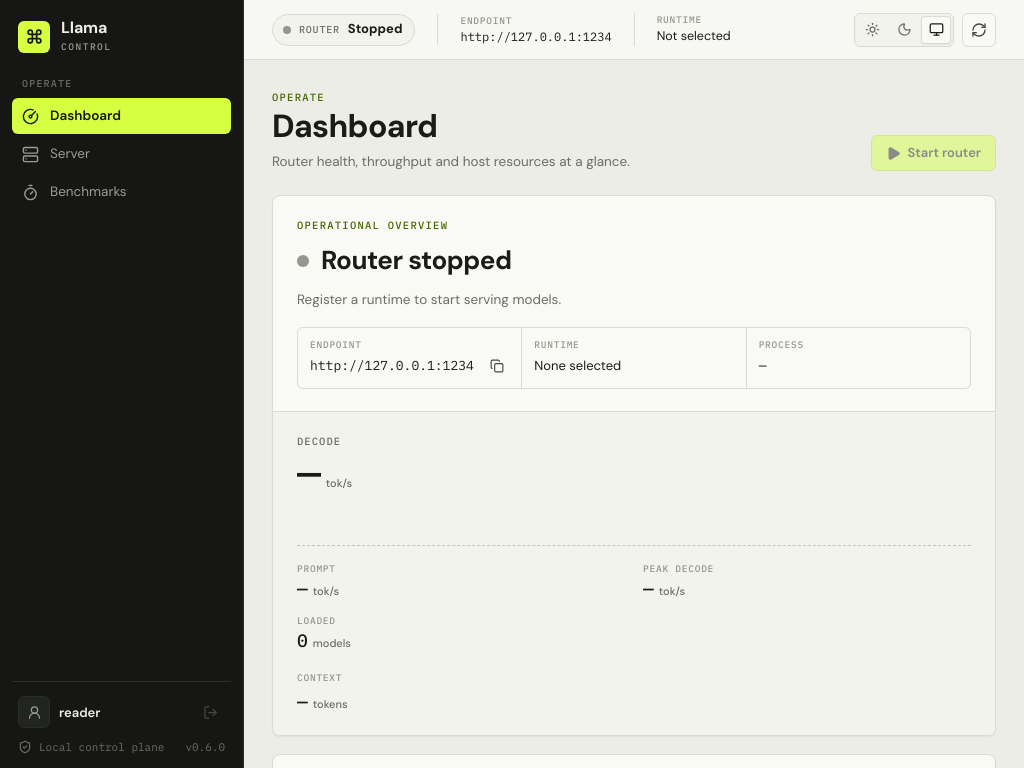
Test: App › opens Account from the bottom-left account button and keeps Settings restricted
Click the button named "Account": click(34, 712) [18,696,50,728]
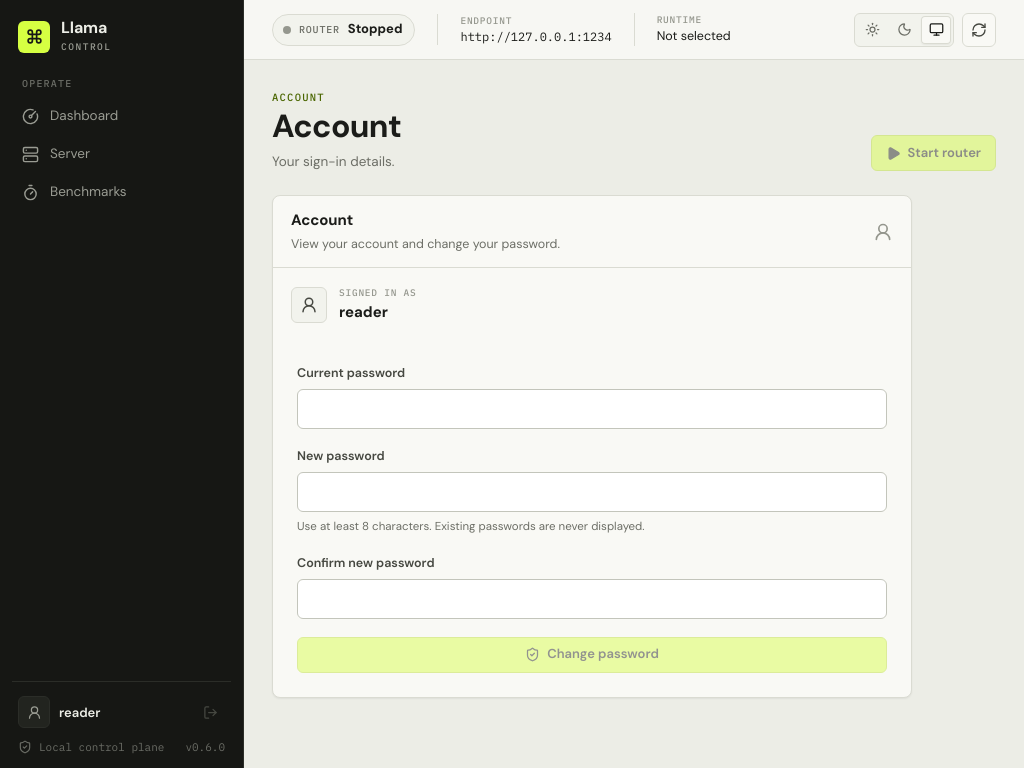
Check: the 2nd heading "Account" is shown, box [291,210,353,230]
Check: the button "Change password" is shown, box [297,637,887,673]
